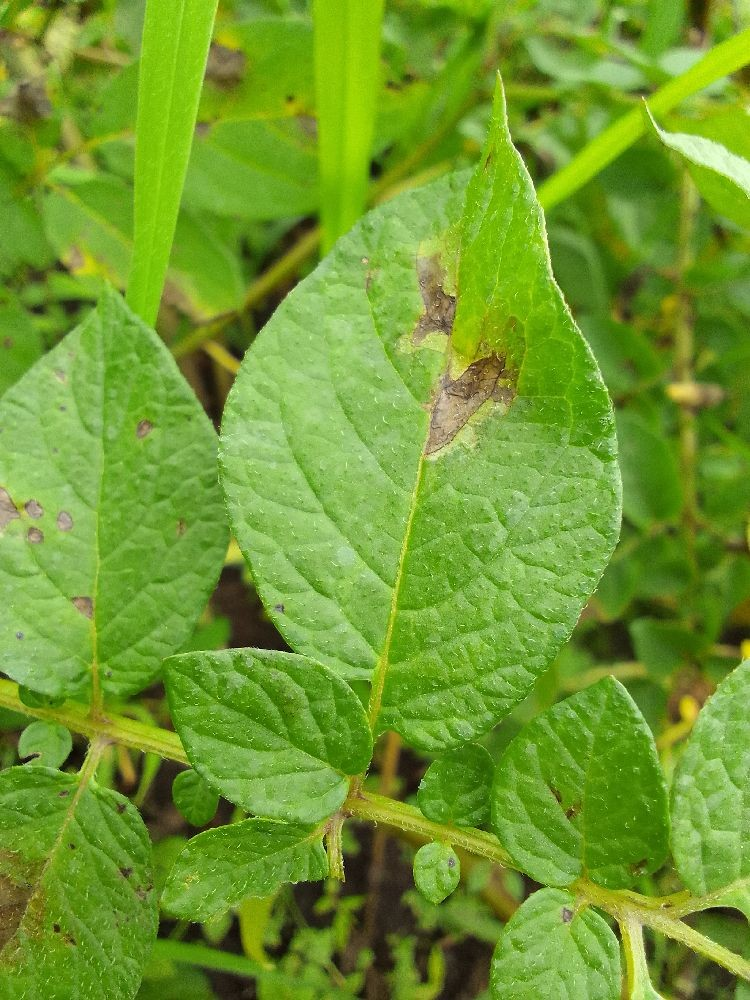late_blight: (306, 715, 508, 999), (131, 192, 344, 456), (197, 553, 292, 660), (631, 915, 750, 1000)
